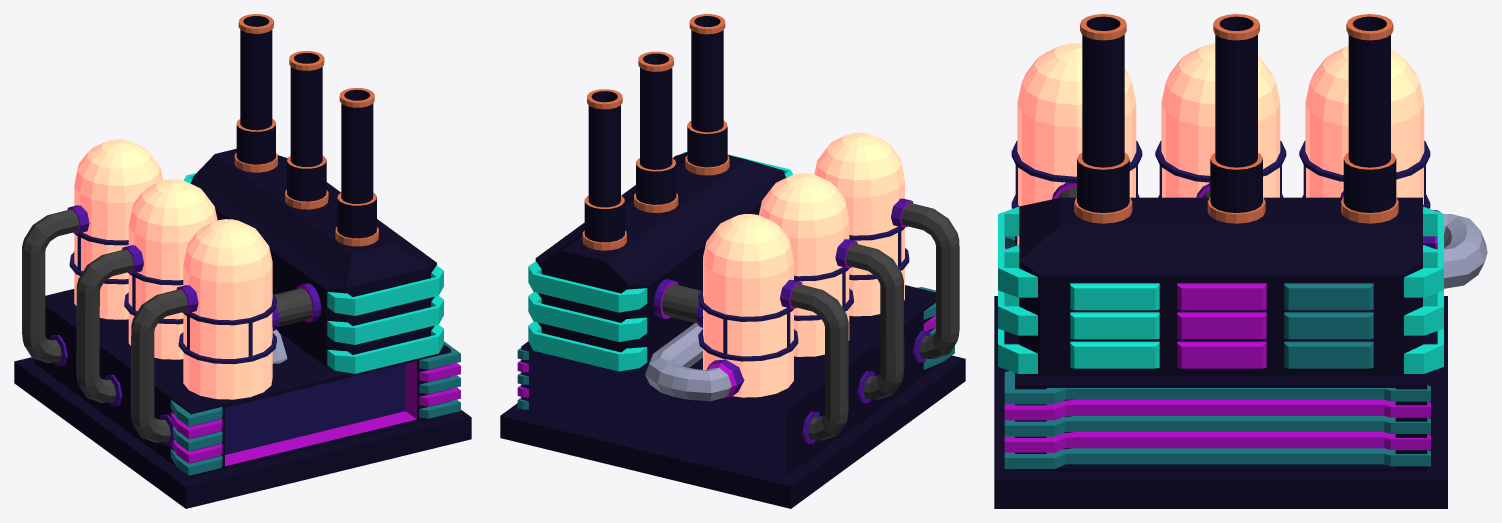
The model's file is RefinerLODs.fbx.
3 renders of one model, left to right at view 1: azimuth 30°, elevation 25°; view 2: azimuth 150°, elevation 25°; view 3: azimuth 270°, elevation 25°, orthographic. The views are drawn at different scales.
Parts seen in each view (by area): view 1: Refiner_LOD0; view 2: Refiner_LOD0; view 3: Refiner_LOD0.
Part boxes in pixels (box(x1,y1,x2,y2)): Refiner_LOD0: box(14, 14, 471, 508); Refiner_LOD0: box(500, 14, 965, 508); Refiner_LOD0: box(994, 14, 1487, 508).
Size of what is drawn, in the model's own units: 2218 by 2274 by 2322.
